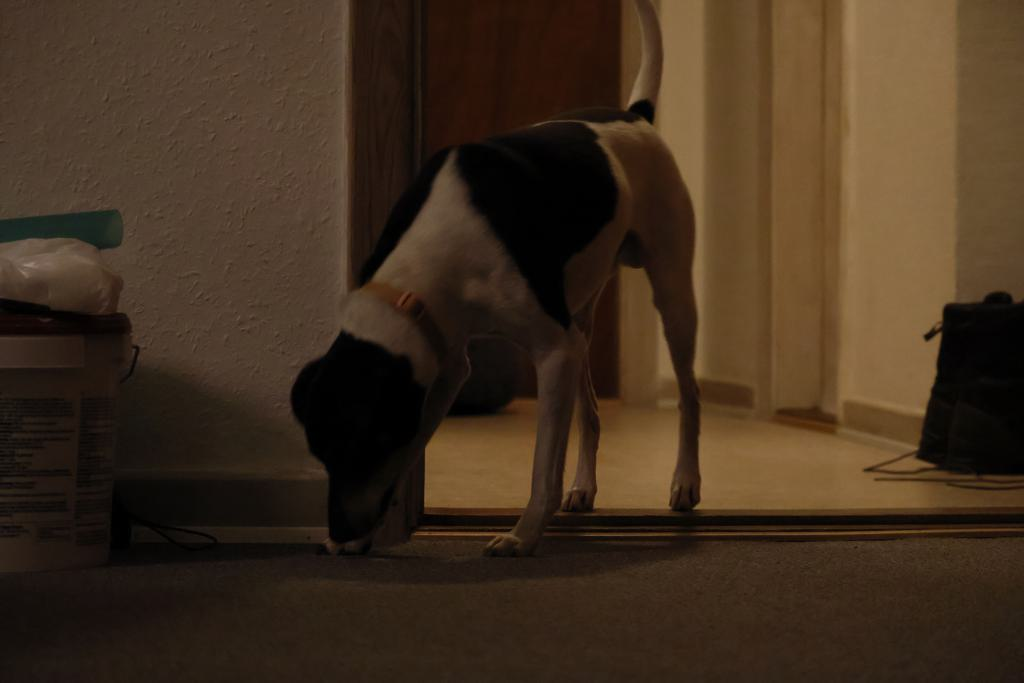Dog: (279, 0, 725, 576)
